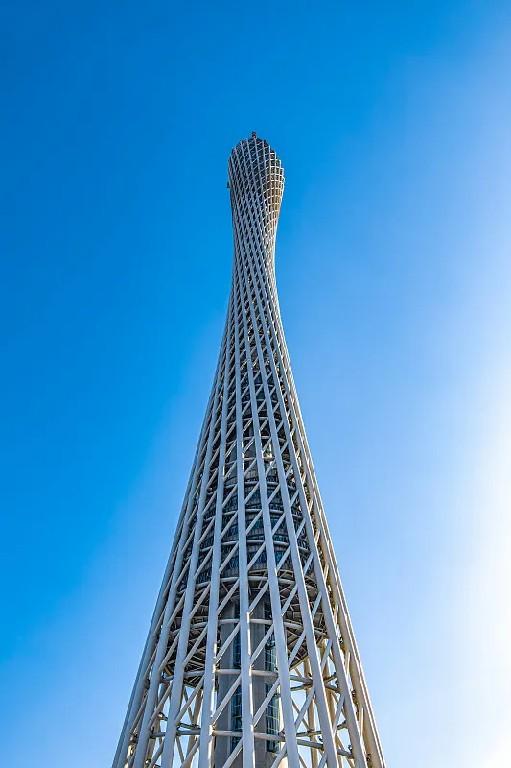Canton: (109, 133, 391, 768)
